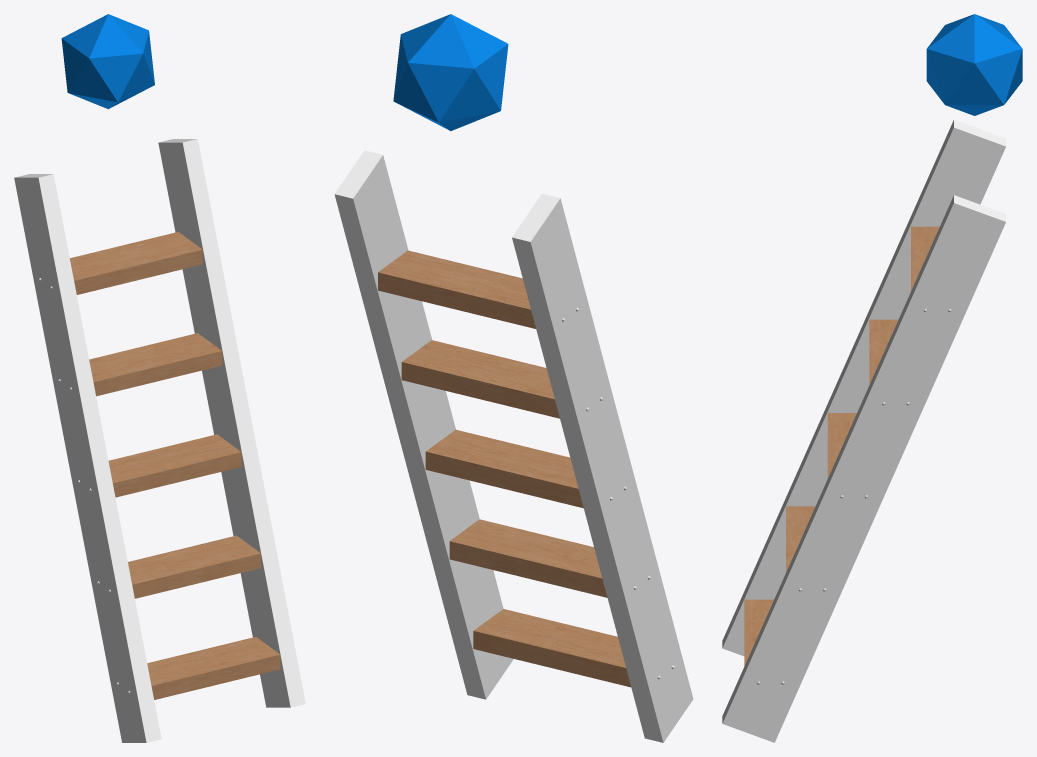
The model's file is Steps.glb.
The picture shows the model from 3 angles, left to right: view 1: azimuth 30°, elevation 25°; view 2: azimuth 150°, elevation 25°; view 3: azimuth 270°, elevation 25°; orthographic projection. The views are drawn at different scales.
Parts seen in each view (by area): view 1: Cube.115, Joint.001; view 2: Cube.115, Joint.001; view 3: Cube.115, Joint.001.
Part boxes in pixels (box(x1,y1,x2,y2)): Cube.115: box(14, 139, 305, 742); Joint.001: box(61, 14, 154, 109); Cube.115: box(334, 150, 693, 742); Joint.001: box(393, 14, 508, 130); Cube.115: box(722, 119, 1006, 742); Joint.001: box(926, 14, 1022, 115).
Size of the model in its own units: 0.545 by 2.05 by 0.8119.
4 materials, 1 textured.
